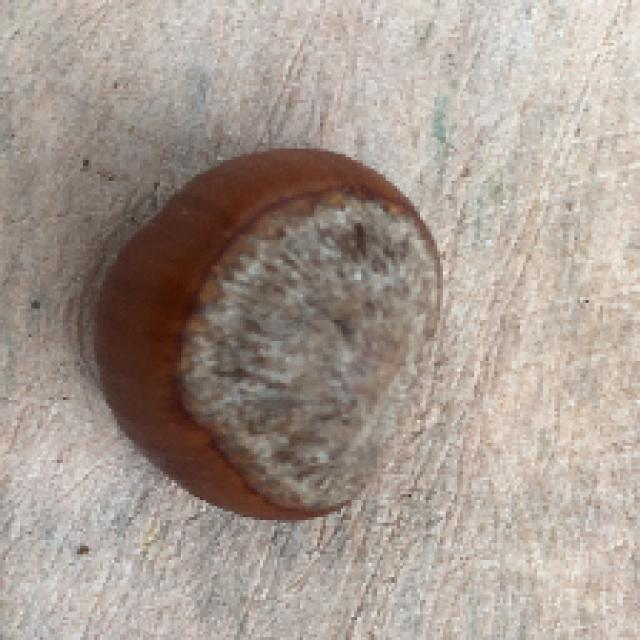qualityHazelnut: (92, 144, 449, 528)
